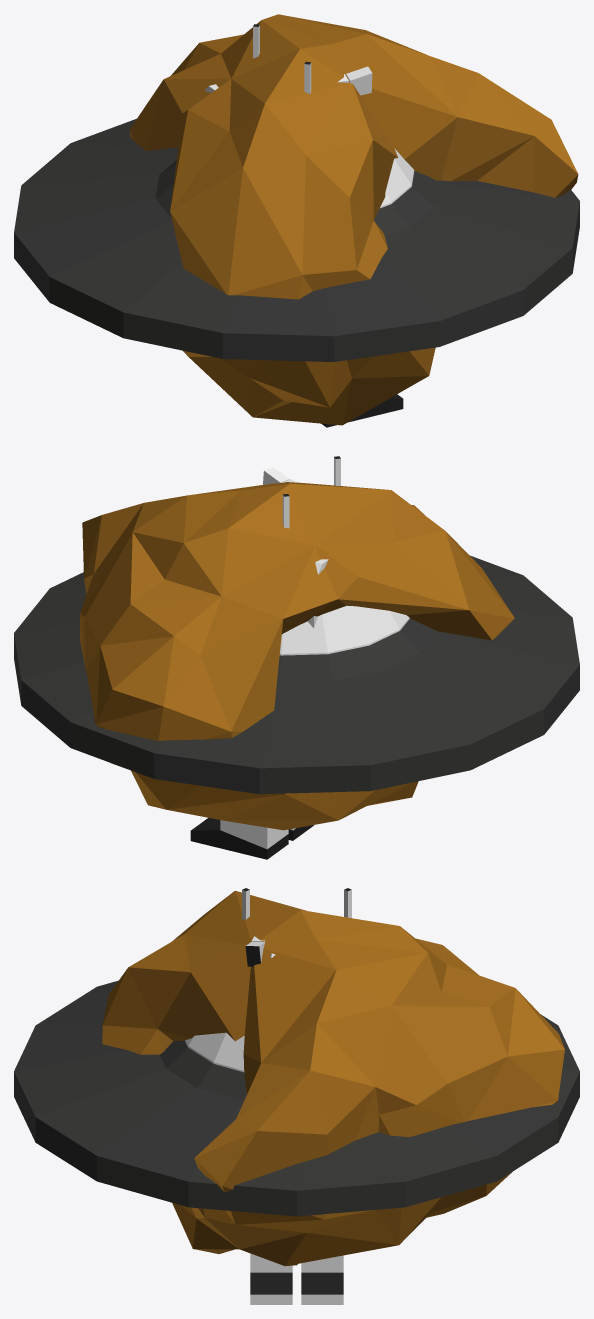
File: Models_v2.fbx
3 renders of one model, top to bottom at view 1: azimuth 30°, elevation 25°; view 2: azimuth 150°, elevation 25°; view 3: azimuth 270°, elevation 25°, orthographic.
Parts seen in each view (by area): view 1: Астероид, UFO, Sphere, Нога.003, Cube.002; view 2: Астероид, UFO, Sphere, Нога.001; view 3: Астероид, UFO, Нога.001, Нога.003, Sphere.
Part boxes in pixels (left/top/right/bottom): Астероид: left=130, top=14, right=578, bottom=425; UFO: left=14, top=118, right=579, bottom=361; Sphere: left=380, top=148, right=414, bottom=208; Нога.003: left=321, top=394, right=403, bottom=427; Cube.002: left=346, top=66, right=372, bottom=95; Астероид: left=80, top=482, right=514, bottom=830; UFO: left=14, top=555, right=579, bottom=794; Sphere: left=279, top=605, right=409, bottom=655; Нога.001: left=190, top=818, right=288, bottom=859; Астероид: left=102, top=890, right=564, bottom=1266; UFO: left=14, top=980, right=579, bottom=1216; Нога.001: left=301, top=1255, right=343, bottom=1304; Нога.003: left=250, top=1253, right=292, bottom=1304; Sphere: left=185, top=1032, right=244, bottom=1072.
Size of the model in its own units: 1000 by 718 by 1000.
Materials: 1 (1 with a texture image).
